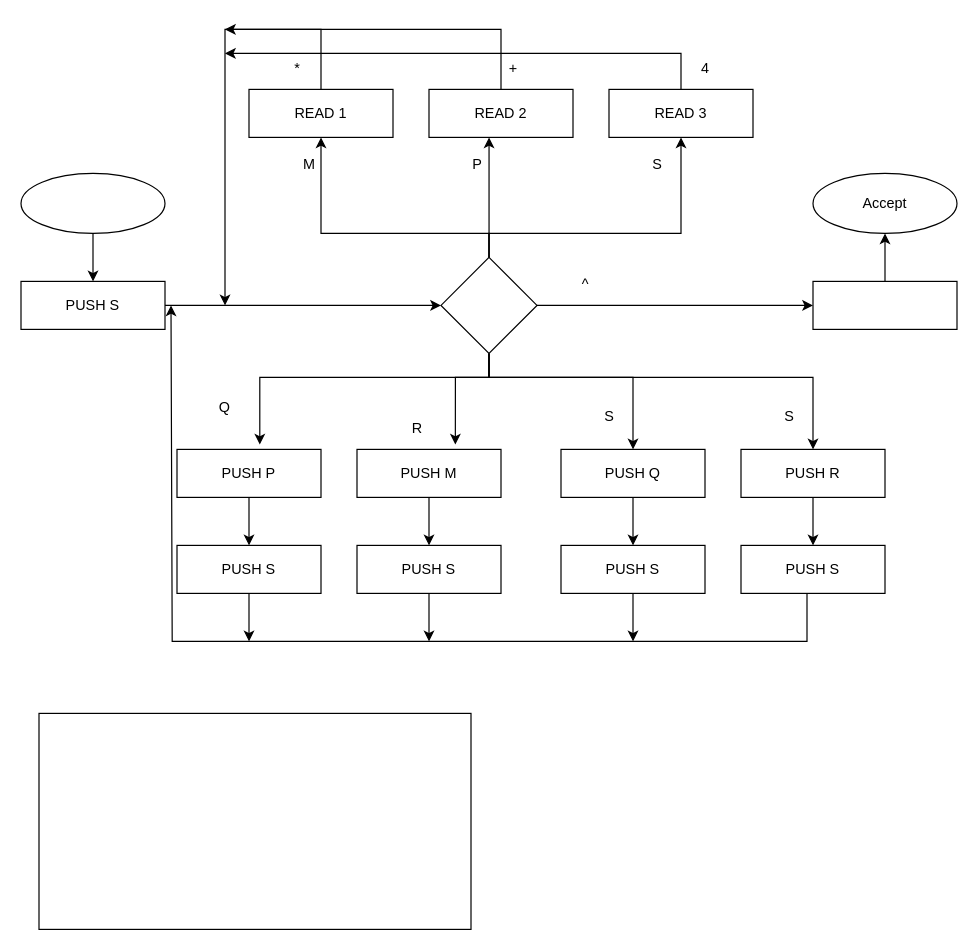
Some shapes in this 978 by 950 pixel diagram are drawn without their labels. The shapes that lost their labels are listed below. From the top down, each one's centre as x and y in pixels, then its label:
At (92,202): "Start".
At (488,304): "POP".
At (884,304): "READ 4".
At (254,820): "S -> QS | RS | 4 Q -> SP R -> SM P -> + M-> * String 4+4*4".
